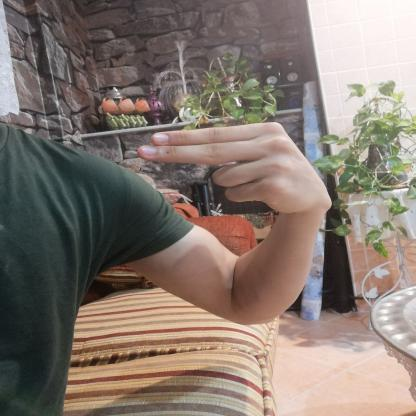AYN: (122, 114, 344, 228)
